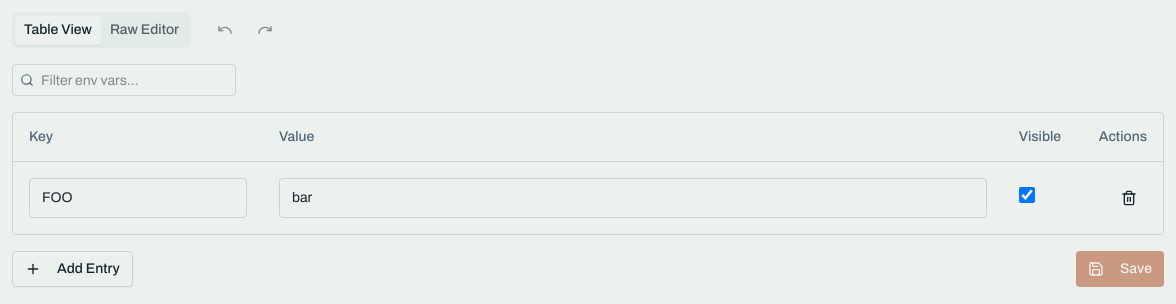
Test: EnvEditor entry editing › editing a key to match a sensitive pattern flips the row to masked rendering
Replace the text in the field named "Environment variable key" with "FOO_SECRET" at coordinates (138, 198), box x1=29 y1=178 x2=247 y2=218
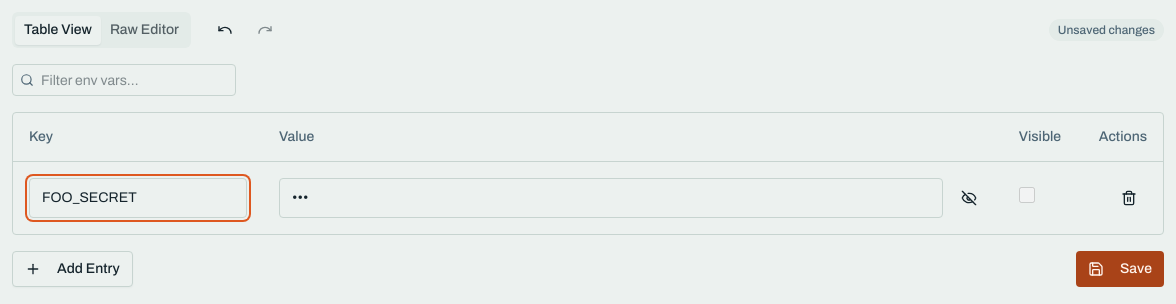
Now the button named "Toggle visibility for entry" is shown, box x1=951 y1=180 x2=987 y2=216
